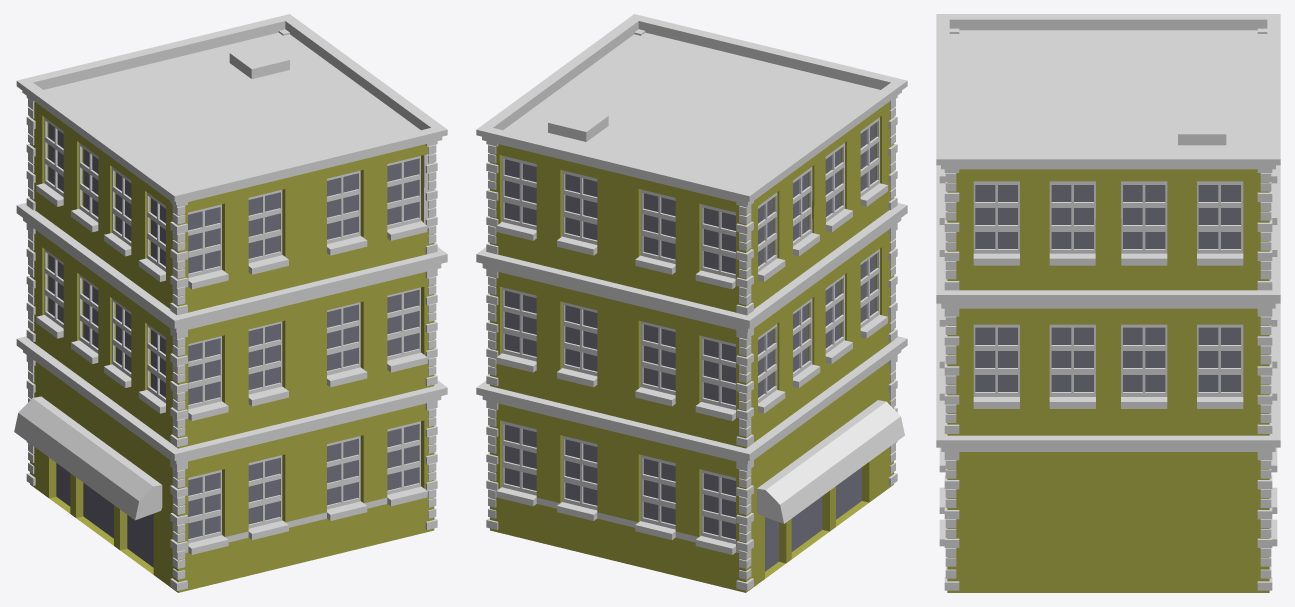
File: Building_1.fbx
The picture shows the model from 3 angles, left to right: view 1: azimuth 30°, elevation 25°; view 2: azimuth 150°, elevation 25°; view 3: azimuth 270°, elevation 25°; orthographic projection. The views are drawn at different scales.
Parts seen in each view (by area): view 1: Building_1; view 2: Building_1; view 3: Building_1.
Part boxes in pixels (box(x1,y1,x2,y2)): Building_1: box(14, 14, 447, 592); Building_1: box(476, 14, 907, 592); Building_1: box(936, 14, 1280, 592).
Bounding box in the file's own units: 0.8132 × 1.07 × 0.7629.
